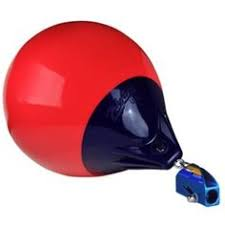buoy: (4, 21, 162, 176)
